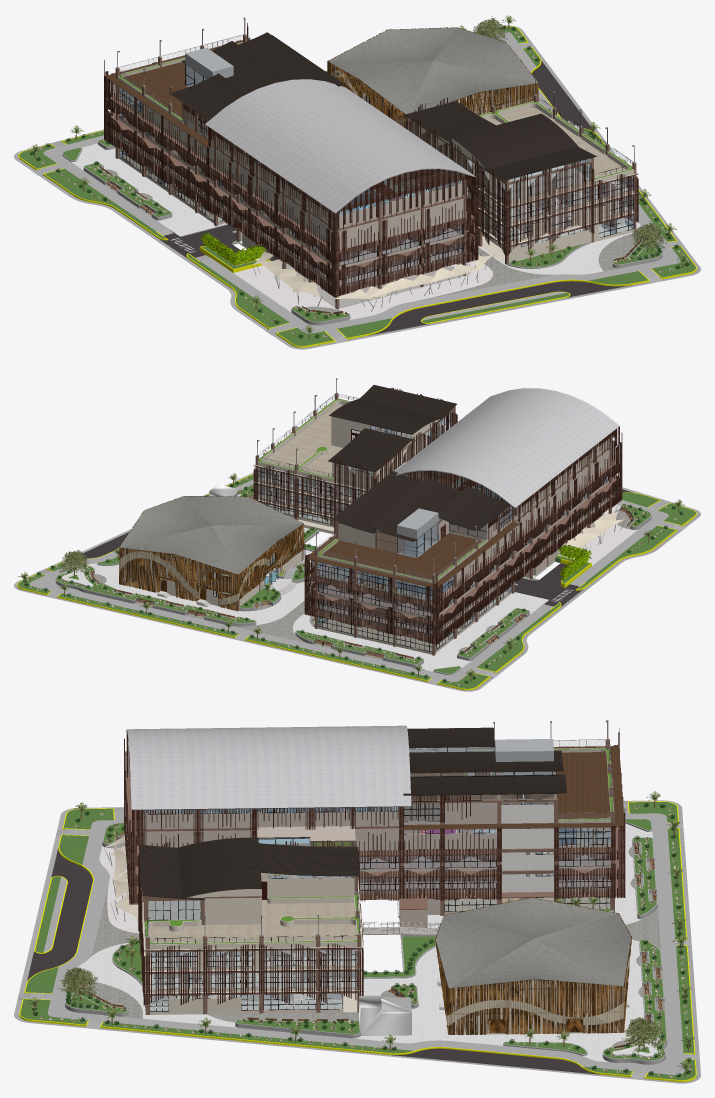
File: centro_cultural.glb
3 views of the same model, one above another, from view 1: azimuth 30°, elevation 25°; view 2: azimuth 150°, elevation 25°; view 3: azimuth 270°, elevation 25° (orthographic). The views are drawn at different scales.
Visible parts, largest first — view 1: Mesh 54, Mesh 161, Mesh 53, Mesh 57, Mesh 261, Mesh 263, Mesh 101, Mesh 113, Mesh 238, Mesh 11, Mesh 215, Mesh 252 (+19 smaller); view 2: Mesh 54, Mesh 161, Mesh 57, Mesh 261, Mesh 53, Mesh 263, Mesh 238, Mesh 113, Mesh 101, Mesh 11, Mesh 252, Mesh 64 (+23 smaller); view 3: Mesh 54, Mesh 161, Mesh 261, Mesh 113, Mesh 57, Mesh 53, Mesh 238, Mesh 263, Mesh 11, Mesh 101, Mesh 252, Mesh 253 (+25 smaller).
Part boxes in pixels (x1,y1,x2,y2): Mesh 54: (104, 23, 638, 297); Mesh 161: (205, 79, 475, 213); Mesh 53: (106, 34, 636, 309); Mesh 57: (170, 32, 596, 180); Mesh 261: (14, 25, 700, 349); Mesh 263: (328, 27, 537, 114); Mesh 101: (117, 42, 463, 287); Mesh 113: (335, 69, 637, 263); Mesh 238: (19, 26, 695, 345); Mesh 11: (119, 65, 633, 246); Mesh 215: (158, 61, 631, 335); Mesh 252: (71, 143, 641, 274); Mesh 54: (253, 387, 622, 644); Mesh 161: (395, 388, 619, 508); Mesh 57: (328, 385, 510, 541); Mesh 261: (14, 472, 700, 691); Mesh 53: (255, 393, 619, 655); Mesh 263: (119, 496, 303, 574); Mesh 238: (18, 474, 695, 688); Mesh 113: (122, 398, 445, 609); Mesh 101: (317, 438, 609, 654); Mesh 11: (214, 412, 512, 651); Mesh 252: (62, 527, 548, 671); Mesh 64: (307, 479, 607, 636); Mesh 54: (124, 728, 625, 1005); Mesh 161: (126, 725, 411, 810); Mesh 261: (14, 800, 700, 1083); Mesh 113: (142, 872, 619, 1034); Mesh 57: (139, 727, 566, 899); Mesh 53: (124, 739, 623, 1014); Mesh 238: (20, 801, 695, 1080); Mesh 263: (435, 898, 631, 988); Mesh 11: (143, 747, 610, 1011); Mesh 101: (143, 747, 613, 927); Mesh 252: (77, 823, 659, 1062); Mesh 253: (262, 881, 631, 1034).
Size of the model in its own units: 96.42 by 22.56 by 98.66.
Materials: 243 (130 with a texture image).
